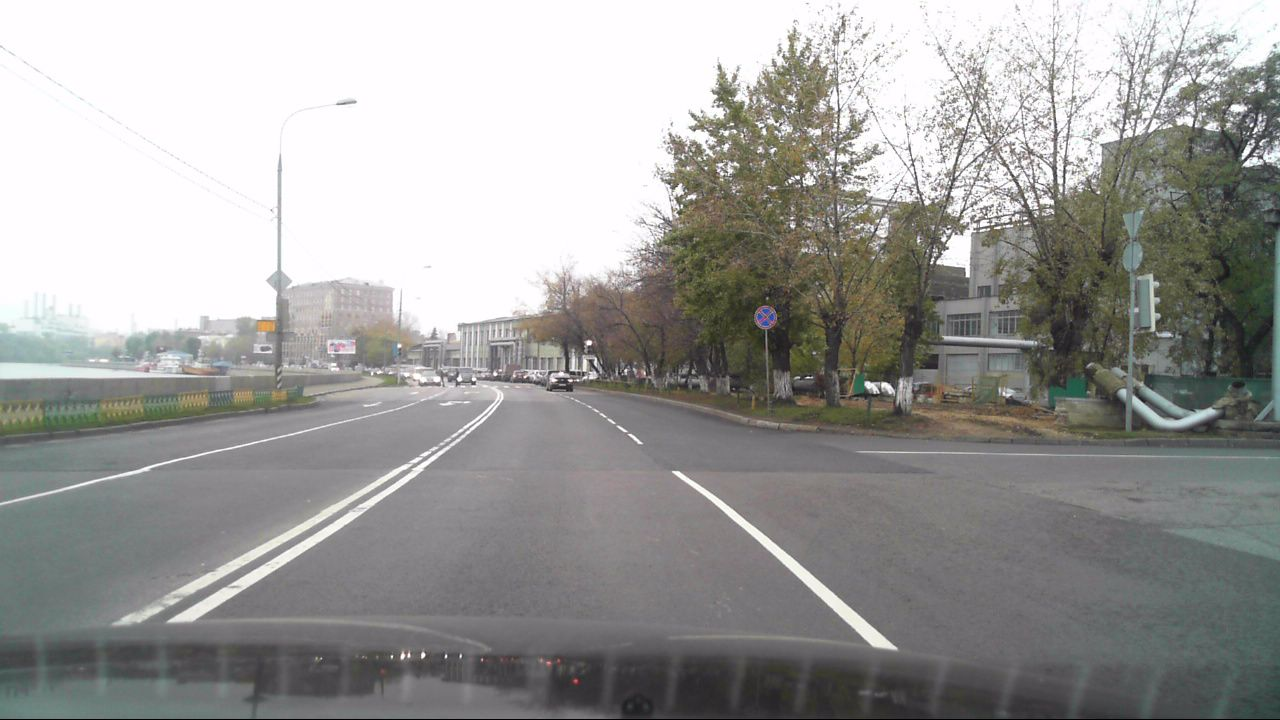No Parking: (753, 302, 779, 330)
